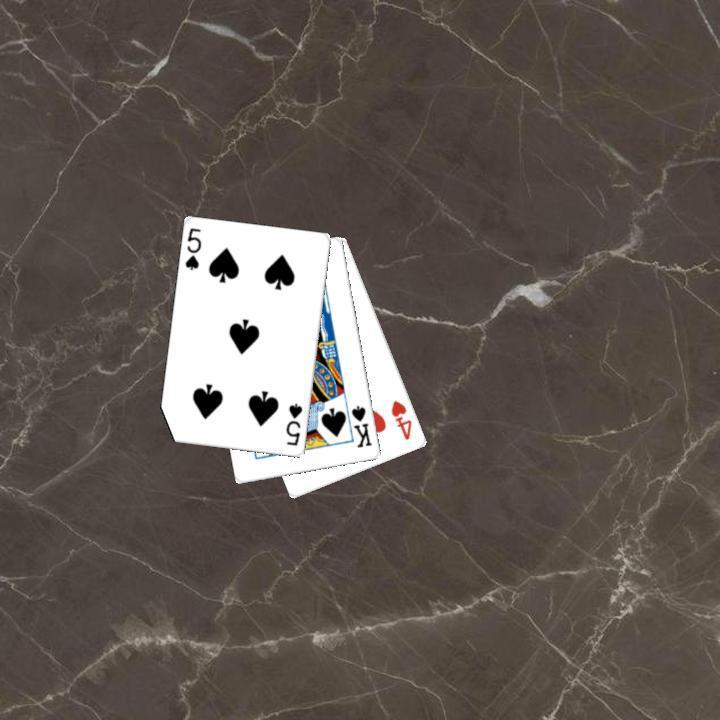4: (387, 396, 414, 442)
5: (282, 399, 305, 448), (181, 224, 204, 273)
K: (347, 401, 374, 450)
